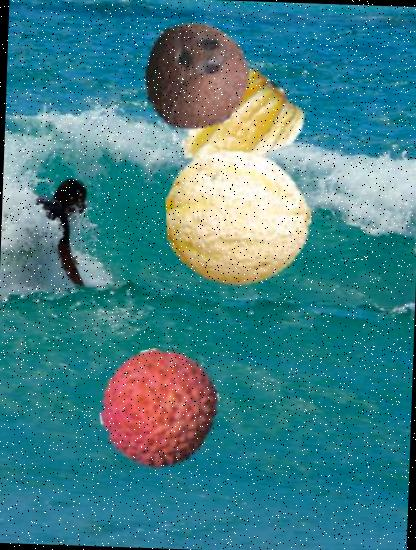Cantaloupe: (164, 144, 314, 294)
Cocos: (138, 19, 254, 134)
Lychee: (98, 346, 224, 472)
Physalis: (181, 71, 302, 192)
